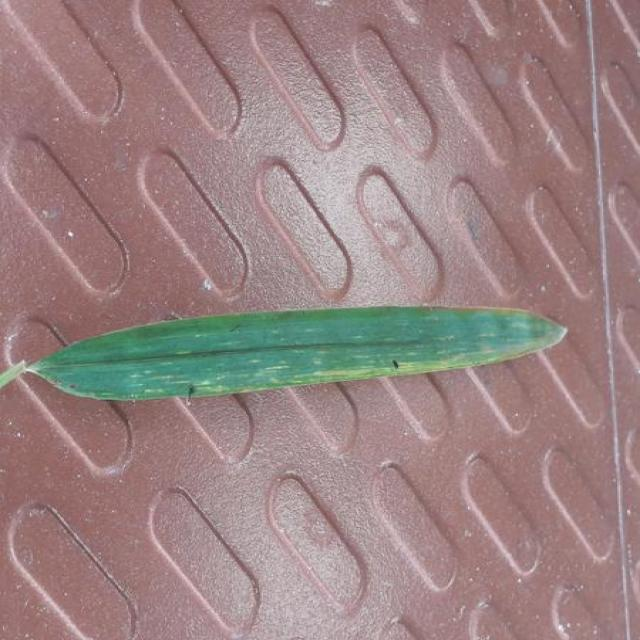Bamboo: (0, 306, 567, 401)
balloon_Vine: (0, 306, 567, 401)
defectedBamboo: (114, 340, 530, 399)
